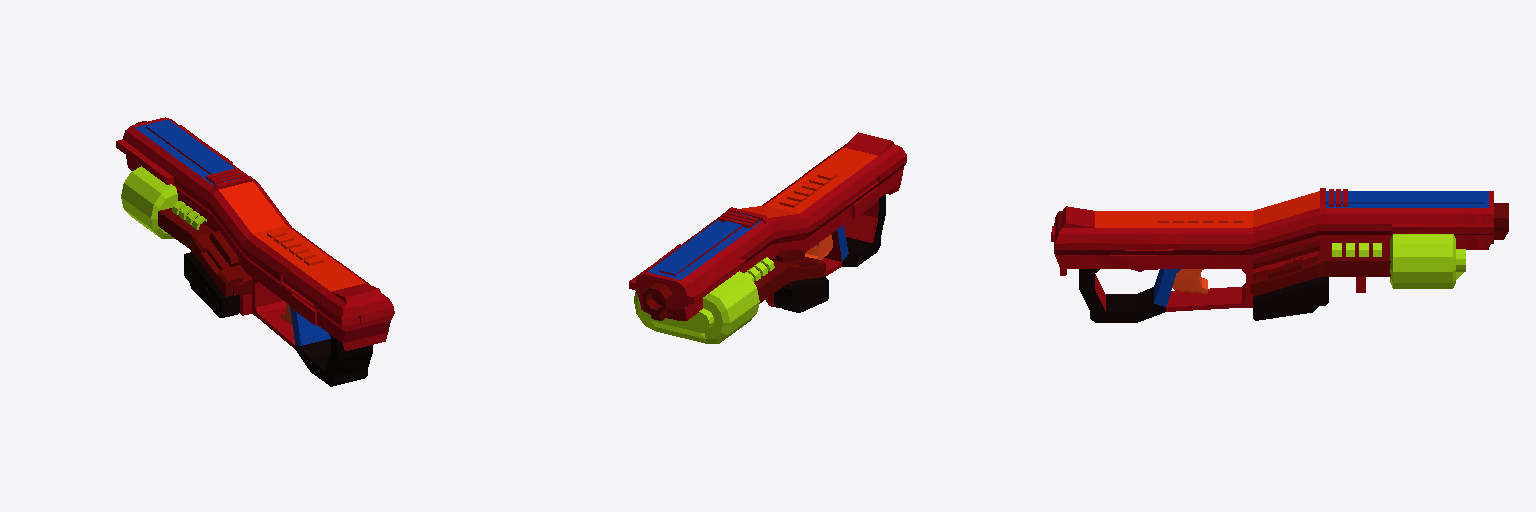
The model's file is shotgun.mtl.obj.
3 views of the same model, side by side, from view 1: azimuth 30°, elevation 25°; view 2: azimuth 150°, elevation 25°; view 3: azimuth 270°, elevation 25° (orthographic).
Parts seen in each view (by area): view 1: Circle, Circle.007, Cube; view 2: Circle, Circle.007, Cylinder.011, Cube; view 3: Circle, Circle.007, Cylinder.010, Cube, Cylinder.011, Circle.009.
Boxes of the visible parts, <box> form: Circle: <box>116,117,394,386</box>; Circle.007: <box>121,166,177,238</box>; Cube: <box>267,229,323,265</box>; Circle: <box>629,132,906,320</box>; Circle.007: <box>634,271,759,343</box>; Cylinder.011: <box>643,283,672,320</box>; Cube: <box>779,171,836,207</box>; Circle: <box>1051,188,1493,322</box>; Circle.007: <box>1390,234,1465,288</box>; Cylinder.010: <box>1172,269,1207,293</box>; Cube: <box>1158,213,1242,222</box>; Cylinder.011: <box>1494,203,1508,239</box>; Circle.009: <box>1332,243,1381,256</box>.
Bounding box in the file's own units: 9.08 × 10.4 × 36.39.